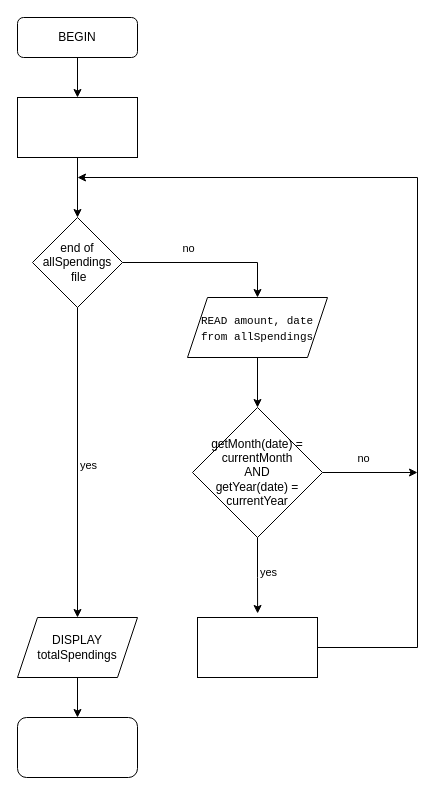
Some shapes in this 443 by 795 pixel diagram are drawn without their labels. Each missing label, with the centre of its shape:
"END" goes at point (77, 747).
"totalSpendings = 0" goes at point (77, 127).
"totalSpendings = totalSpendings + amount" goes at point (257, 647).
